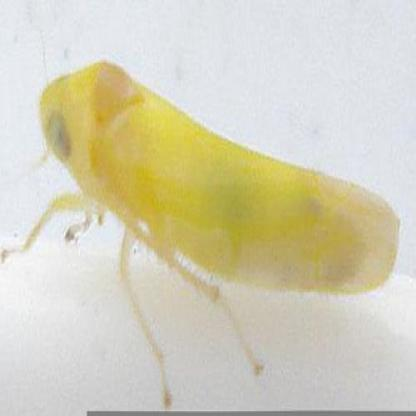green-leafhopper: (39, 55, 391, 294)
